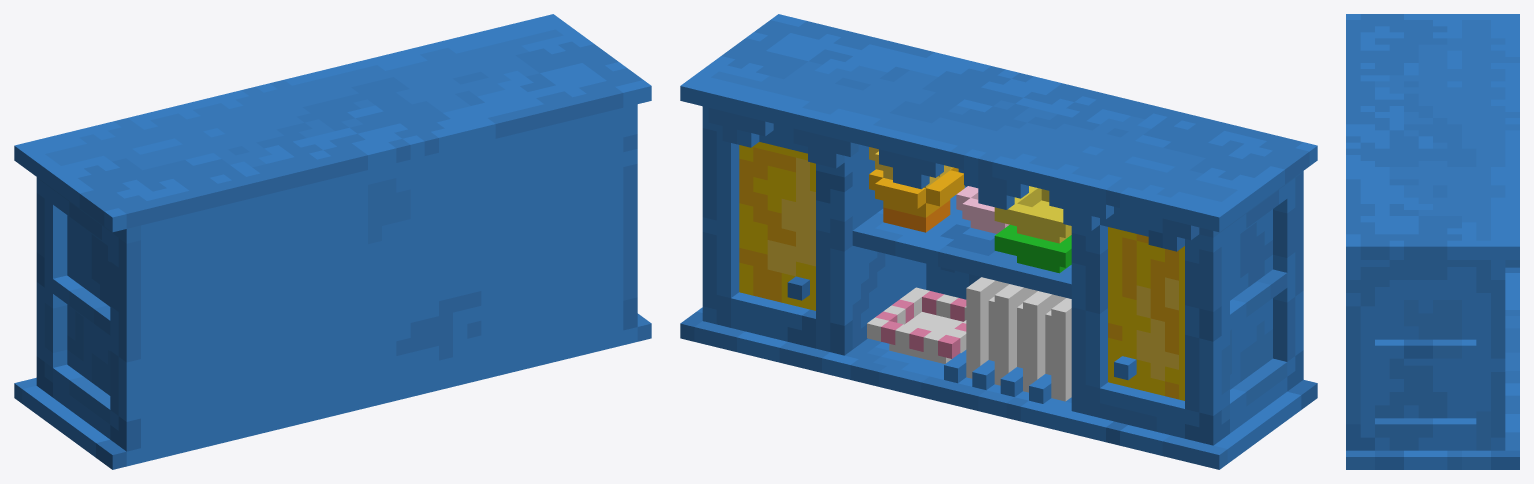
The model's file is Kitchen_cabinets-22.obj.
The picture shows the model from 3 angles, left to right: view 1: azimuth 30°, elevation 25°; view 2: azimuth 150°, elevation 25°; view 3: azimuth 270°, elevation 25°; orthographic projection. The views are drawn at different scales.
Bounding box in the file's own units: 3.8 × 1.7 × 1.2.
Materials: 1 (1 with a texture image).
